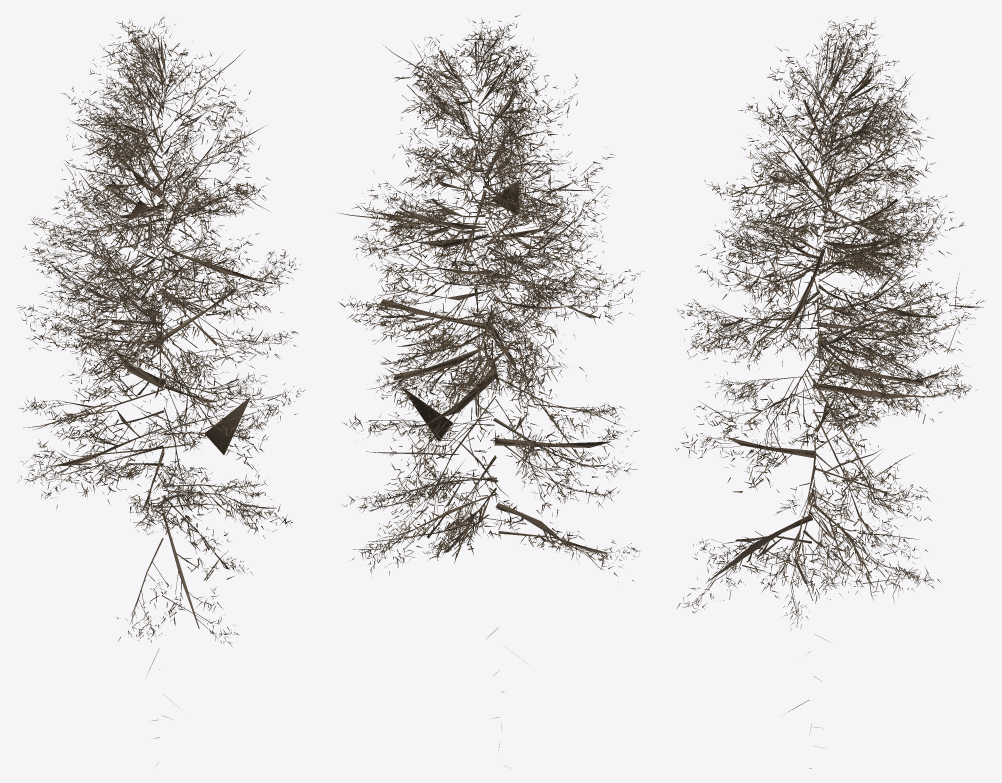
File: fir_tree_01_lod1.fbx
3 renders of one model, left to right at view 1: azimuth 30°, elevation 25°; view 2: azimuth 150°, elevation 25°; view 3: azimuth 270°, elevation 25°, orthographic. The views are drawn at different scales.
Visible parts, largest first — view 1: fir_tree_01_a_LOD0; view 2: fir_tree_01_a_LOD0; view 3: fir_tree_01_a_LOD0.
Boxes of the visible parts, x1,y1,x2,y2 form: fir_tree_01_a_LOD0: [16, 17, 304, 765]; fir_tree_01_a_LOD0: [338, 14, 644, 766]; fir_tree_01_a_LOD0: [675, 18, 986, 768].
Bounding box in the file's own units: 6.38 × 16.55 × 6.27.
